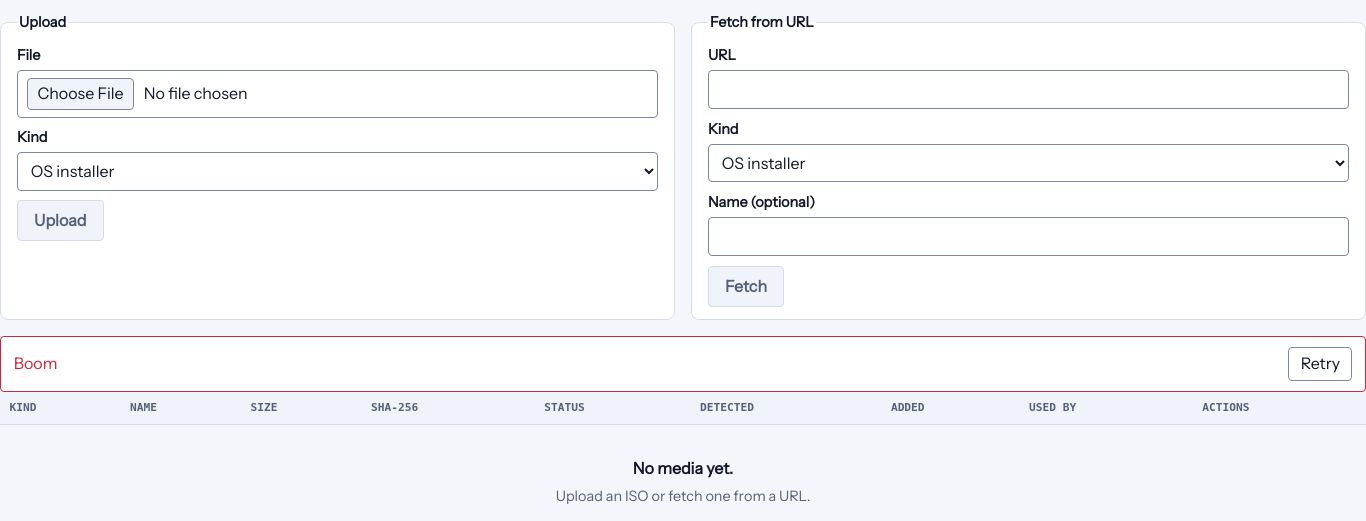
Test case: MediaLibrary › shows a load error
This screenshot has width=1366, height=521.
Expected: the message shows "Boom", [14, 353, 57, 373]
Click the button "Retry" at (1320, 364), box [1288, 347, 1352, 381]
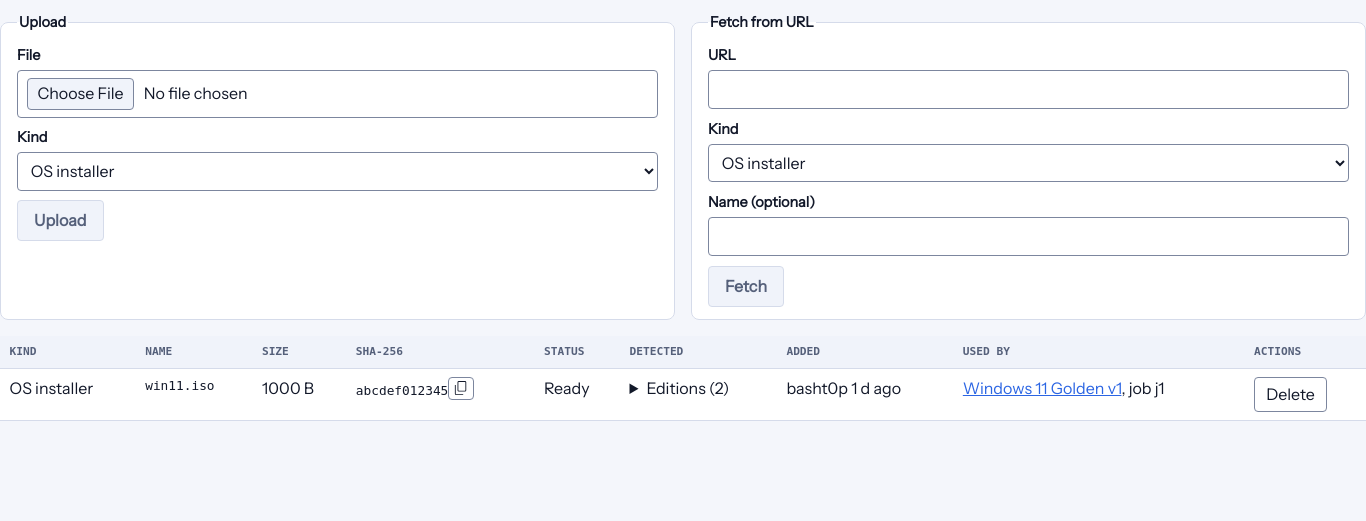
Now the text "win11.iso" is shown, box [136, 369, 252, 420]
